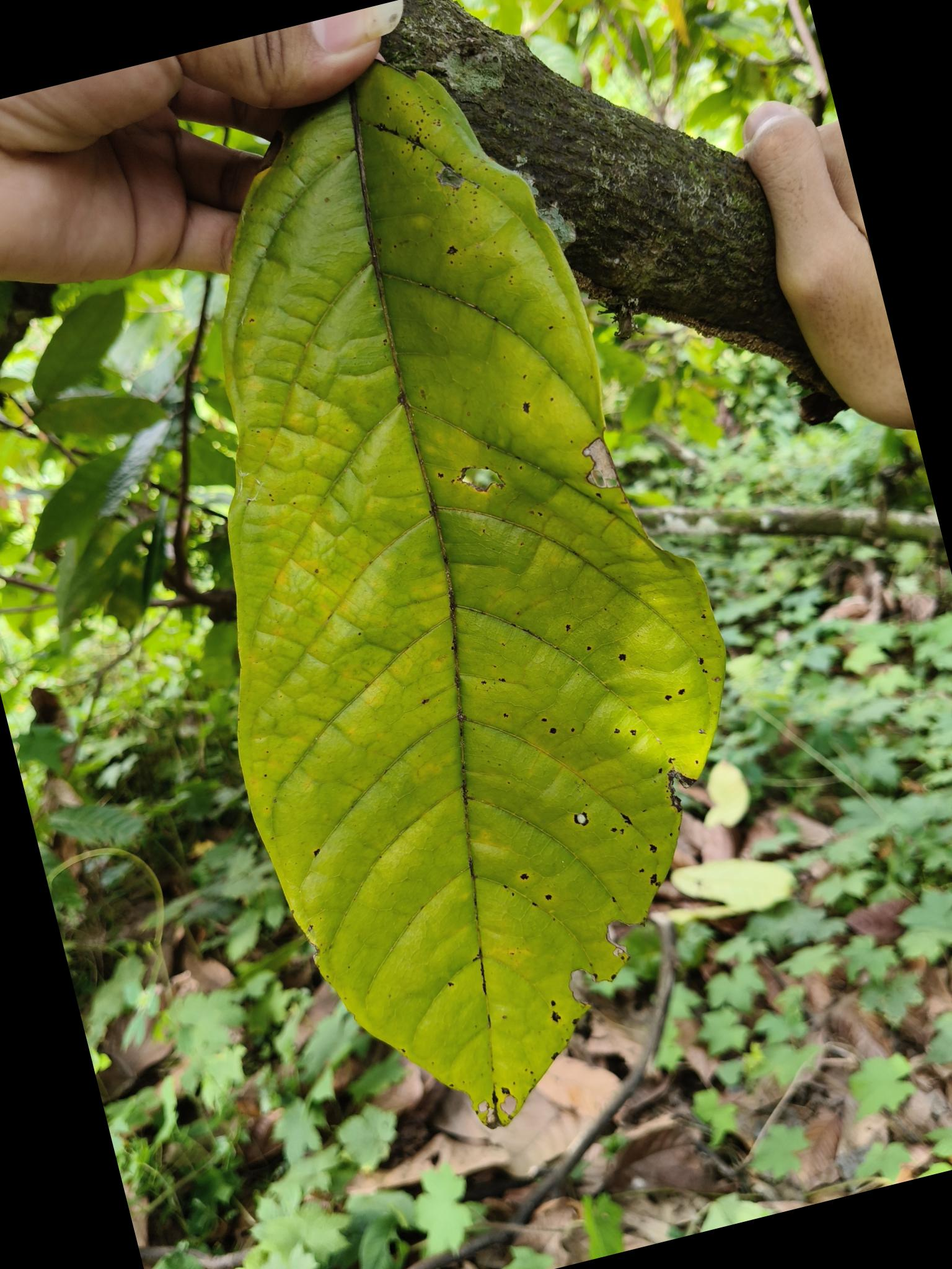Fosforo: (226, 60, 724, 1134)
